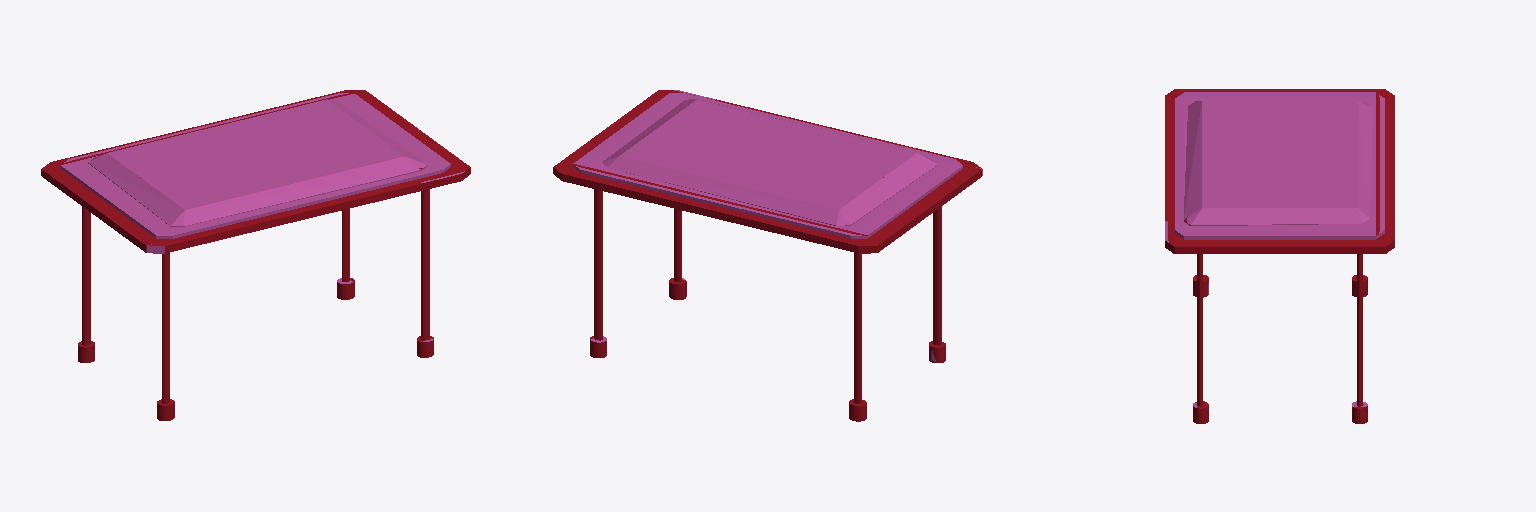
3 views of the same model, side by side, from view 1: azimuth 30°, elevation 25°; view 2: azimuth 150°, elevation 25°; view 3: azimuth 270°, elevation 25° (orthographic).
Visible parts, largest first — view 1: Cube.020_Cube.015; view 2: Cube.020_Cube.015; view 3: Cube.020_Cube.015.
Part boxes in pixels (x1,y1,x2,y2): Cube.020_Cube.015: (41, 90, 470, 420); Cube.020_Cube.015: (553, 90, 982, 421); Cube.020_Cube.015: (1165, 89, 1394, 423).
Bounding box in the file's own units: 12.14 × 7.26 × 7.45.
1 materials, 1 textured.